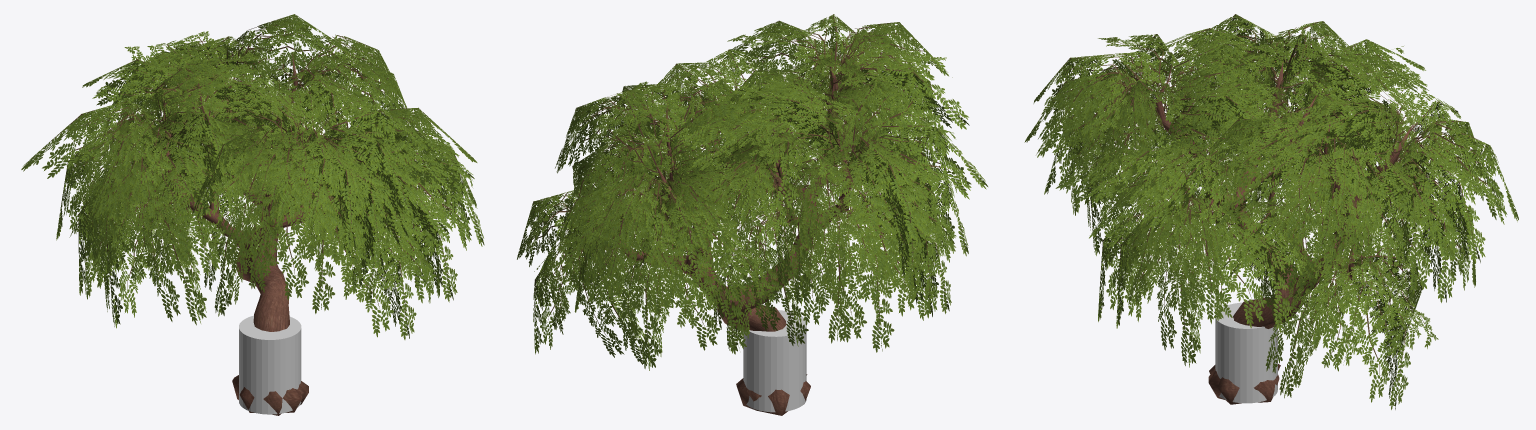
File: trees_0.fbx
3 renders of one model, left to right at view 1: azimuth 30°, elevation 25°; view 2: azimuth 150°, elevation 25°; view 3: azimuth 270°, elevation 25°, orthographic.
Visible parts, largest first — view 1: treebrown2_leaves.001, treebrown_002, PHY_CYLINDER; view 2: treebrown2_leaves.001, PHY_CYLINDER, treebrown_002; view 3: treebrown2_leaves.001, treebrown_002, PHY_CYLINDER.
Part boxes in pixels (left/top/right/bottom): treebrown2_leaves.001: left=21, top=14, right=484, bottom=339; treebrown_002: left=162, top=53, right=324, bottom=415; PHY_CYLINDER: left=239, top=315, right=301, bottom=414; treebrown2_leaves.001: left=517, top=14, right=987, bottom=370; PHY_CYLINDER: left=743, top=310, right=806, bottom=412; treebrown_002: left=613, top=67, right=851, bottom=415; treebrown2_leaves.001: left=1024, top=14, right=1518, bottom=409; treebrown_002: left=1155, top=62, right=1413, bottom=404; PHY_CYLINDER: left=1215, top=302, right=1277, bottom=403.
Bounding box in the file's own units: 1161 × 901 × 1223.
